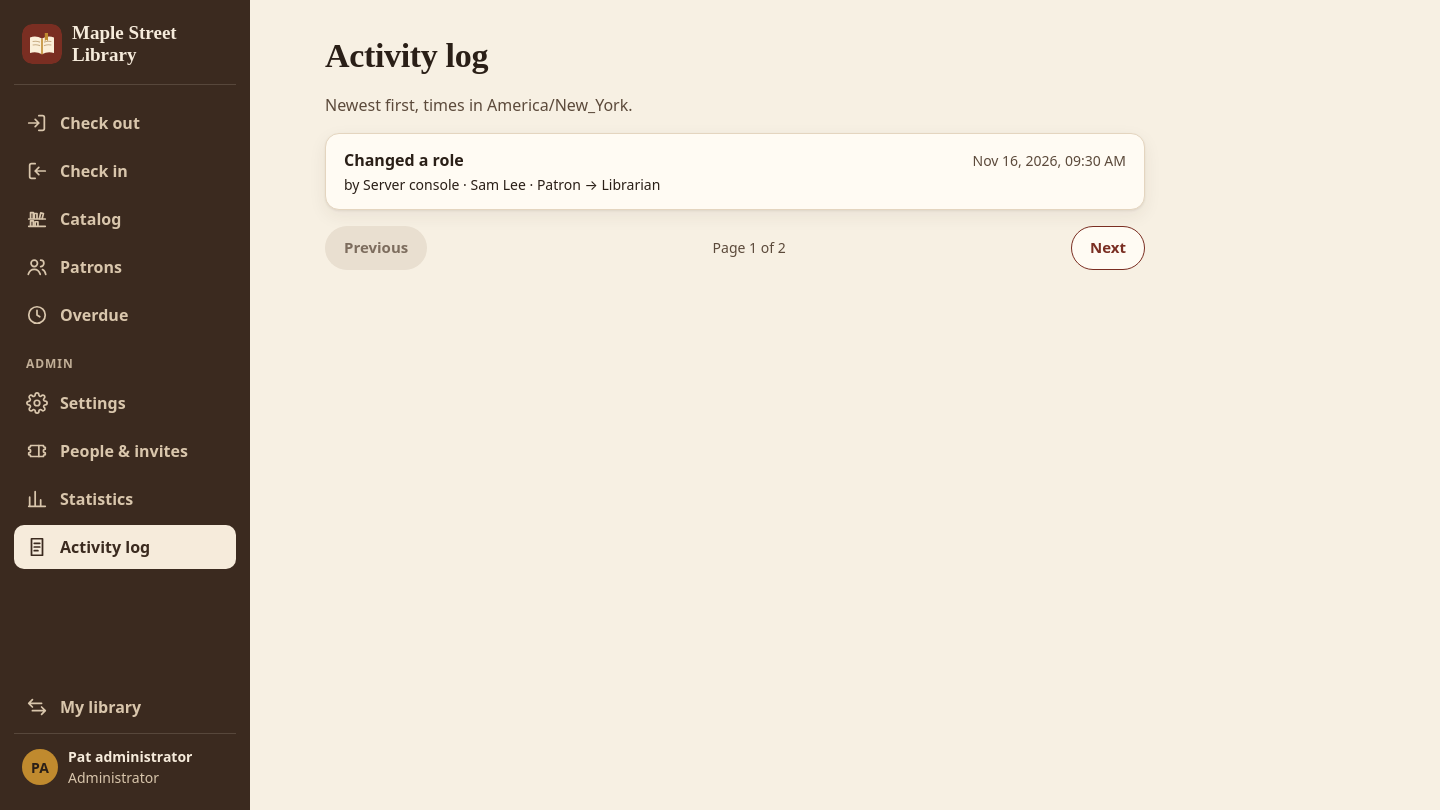
Test: ADMIN-4 Administrative activity log › the server console is named and the log pages
Expected: the text "by Server console · Sam Lee · Patron → Librarian" is shown, [344, 174, 660, 195]
Click the button "Next": (1108, 248) [1071, 226, 1145, 270]
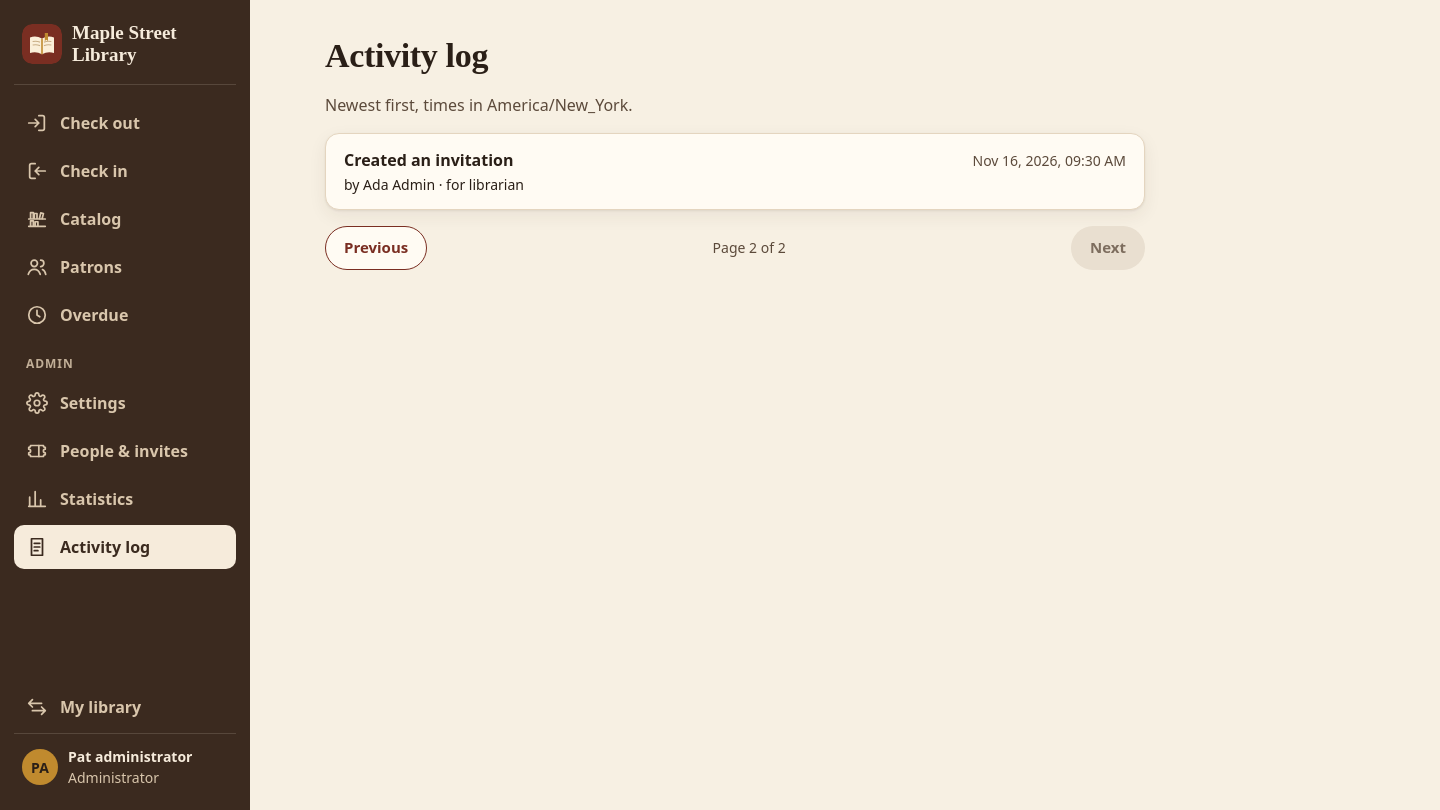
Now the text "Created an invitation" is shown, box [344, 148, 524, 172]
